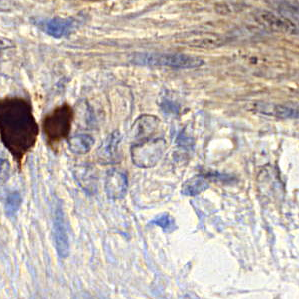Lymphocyte: (41, 104, 76, 143)
